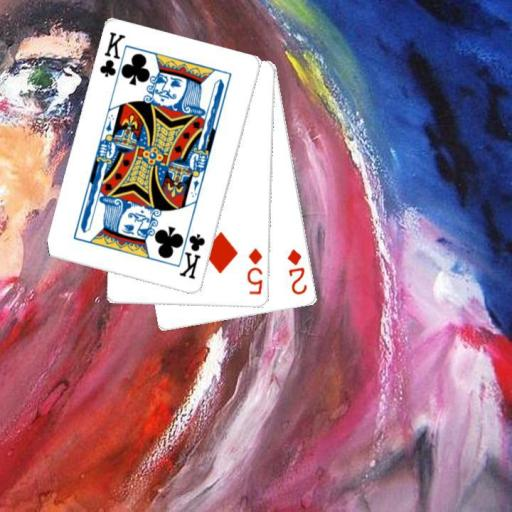2D: (285, 246, 310, 297)
5D: (244, 245, 264, 296)
KC: (173, 223, 207, 281), (97, 29, 130, 88)
